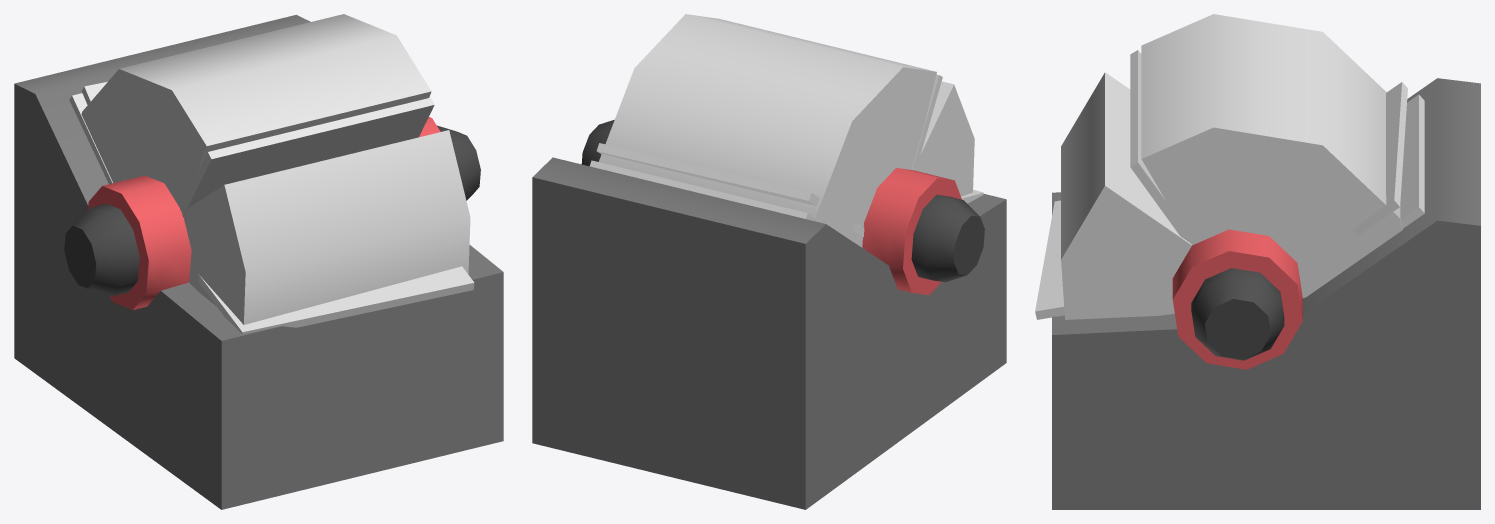
File: Impresora.fbx
3 views of the same model, side by side, from view 1: azimuth 30°, elevation 25°; view 2: azimuth 150°, elevation 25°; view 3: azimuth 270°, elevation 25° (orthographic). The views are drawn at different scales.
Parts seen in each view (by area): view 1: Impresora; view 2: Impresora; view 3: Impresora.
Boxes of the visible parts, left/top/right/bottom form: Impresora: left=14, top=14, right=503, bottom=509; Impresora: left=532, top=14, right=1006, bottom=509; Impresora: left=1035, top=14, right=1480, bottom=509.
Size of the model in its own units: 28.47 by 25.15 by 27.63.
